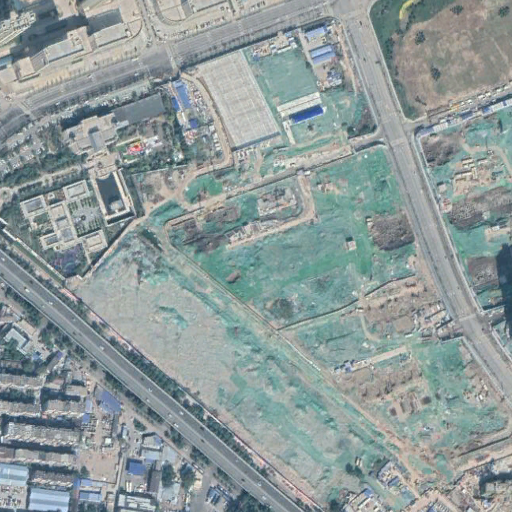cw: (92, 145, 512, 512), (416, 105, 512, 356), (243, 33, 381, 155)
